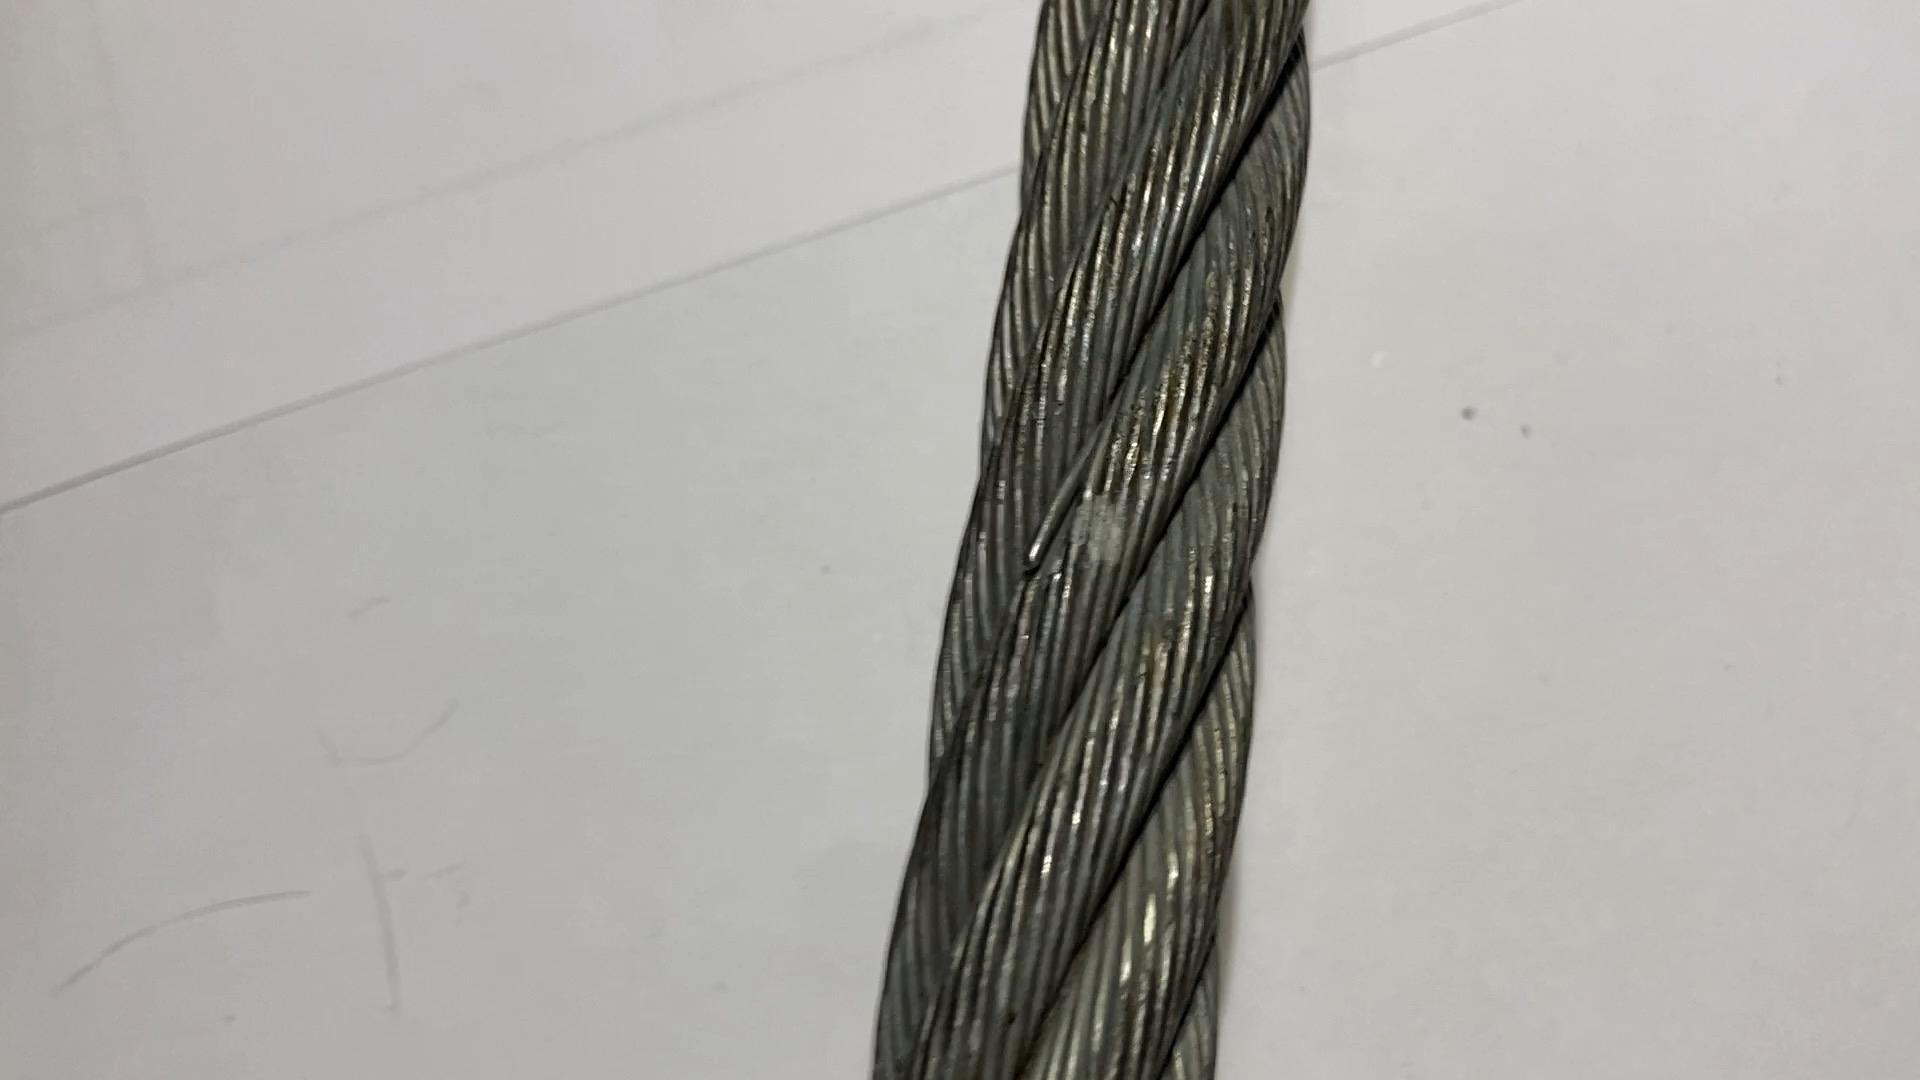break: (1018, 443, 1117, 580)
